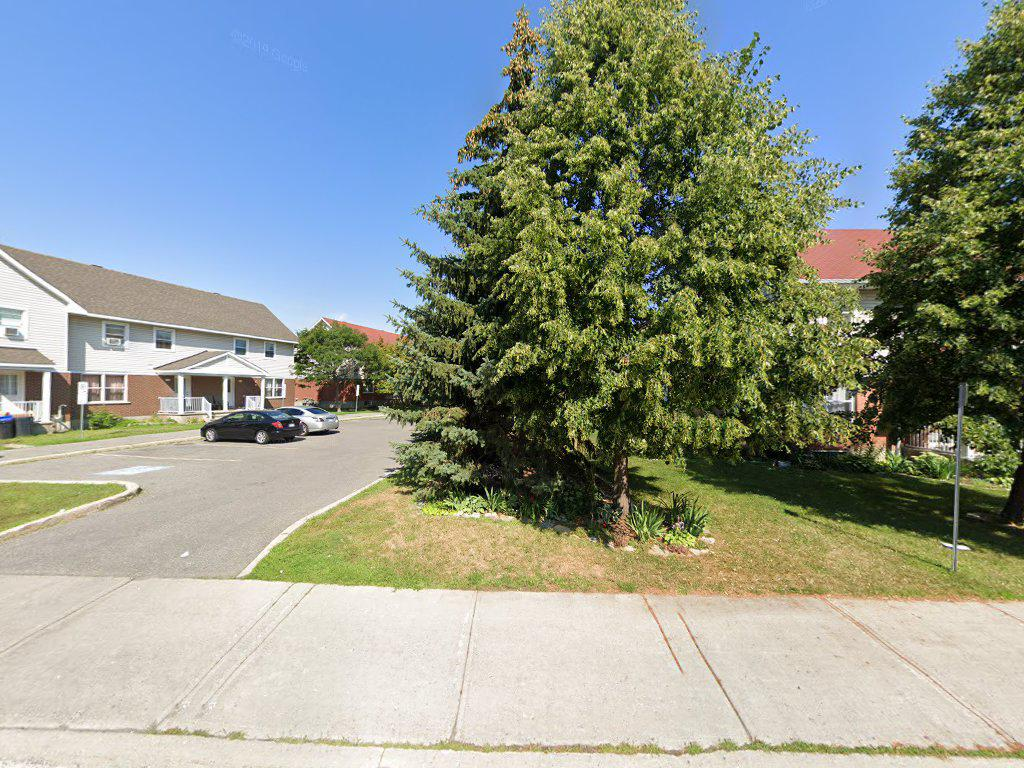trunk: (605, 440, 633, 547)
